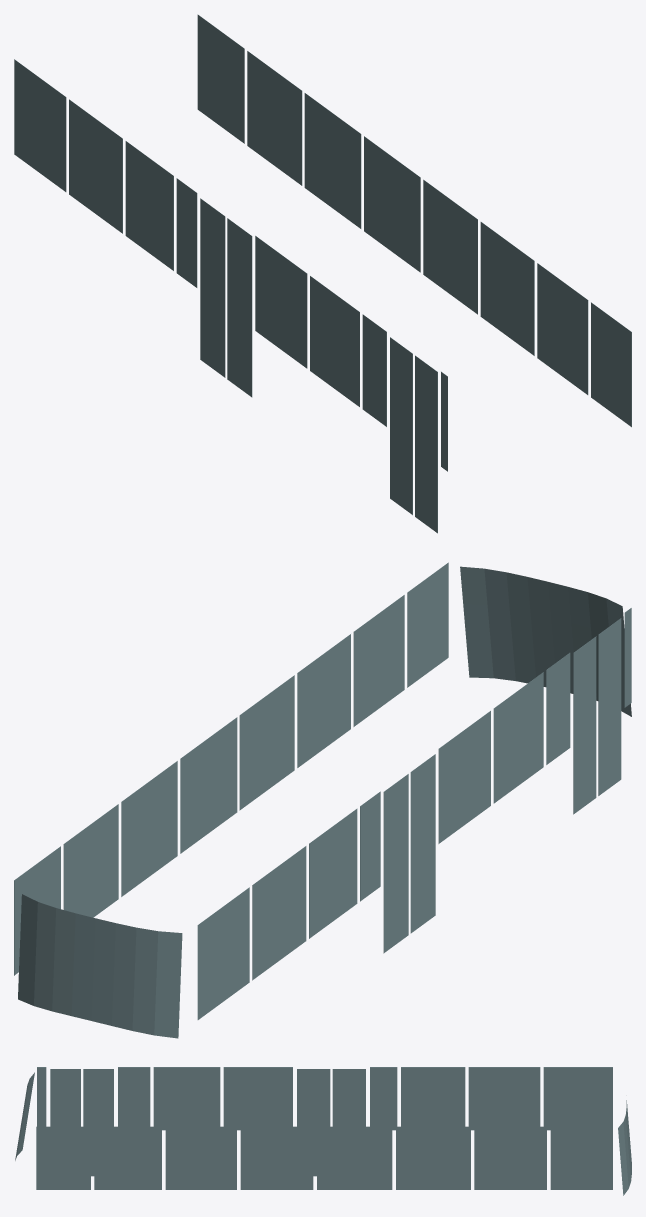
The model's file is glass.glb.
3 views of the same model, one above another, from view 1: azimuth 30°, elevation 25°; view 2: azimuth 150°, elevation 25°; view 3: azimuth 270°, elevation 25° (orthographic). The views are drawn at different scales.
Visible parts, largest first — view 1: ShapedGlazing; view 2: ShapedGlazing; view 3: ShapedGlazing.
Part boxes in pixels (x1,y1,x2,y2): ShapedGlazing: (14,14,631,533); ShapedGlazing: (14,562,631,1038); ShapedGlazing: (15,1067,631,1195).
Bounding box in the file's own units: 2.5 × 2.14 × 10.95.
